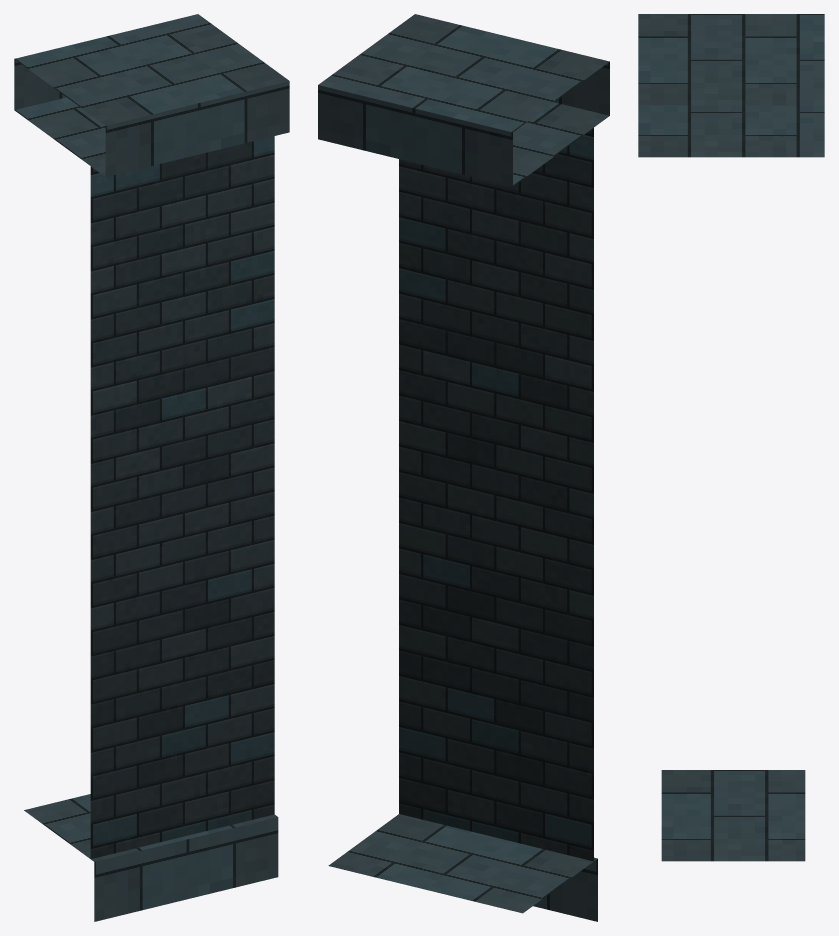
The model's file is T1_Wall_BrickA.fbx.
The picture shows the model from 3 angles, left to right: view 1: azimuth 30°, elevation 25°; view 2: azimuth 150°, elevation 25°; view 3: azimuth 270°, elevation 25°; orthographic projection. The views are drawn at different scales.
Visible parts, largest first — view 1: T1_Wall_BrickA; view 2: T1_Wall_BrickA; view 3: T1_Wall_BrickA.
Part boxes in pixels (x1=…): T1_Wall_BrickA: x1=14, y1=14, x2=289, y2=921; T1_Wall_BrickA: x1=318, y1=14, x2=609, y2=921; T1_Wall_BrickA: x1=638, y1=14, x2=824, y2=861.
Bounding box in the file's own units: 1.12 × 4.7 × 0.97.
